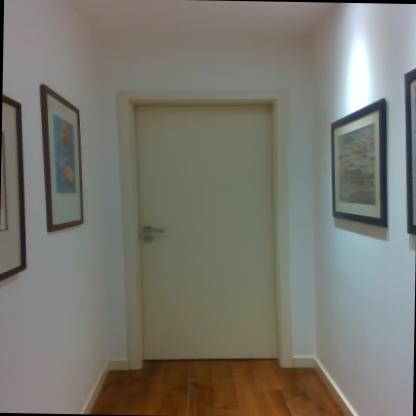closed: (103, 79, 294, 378)
